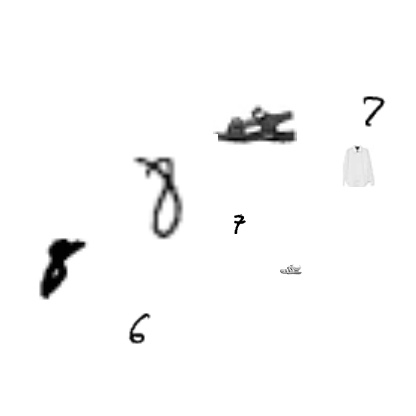4: (159, 208, 173, 222)
6: (116, 309, 158, 351)
7: (352, 86, 394, 128), (224, 208, 252, 236)
8: (106, 134, 218, 246), (16, 221, 100, 305)
Sandal: (213, 81, 297, 165), (280, 258, 302, 280)
Shirt: (337, 145, 379, 187)
